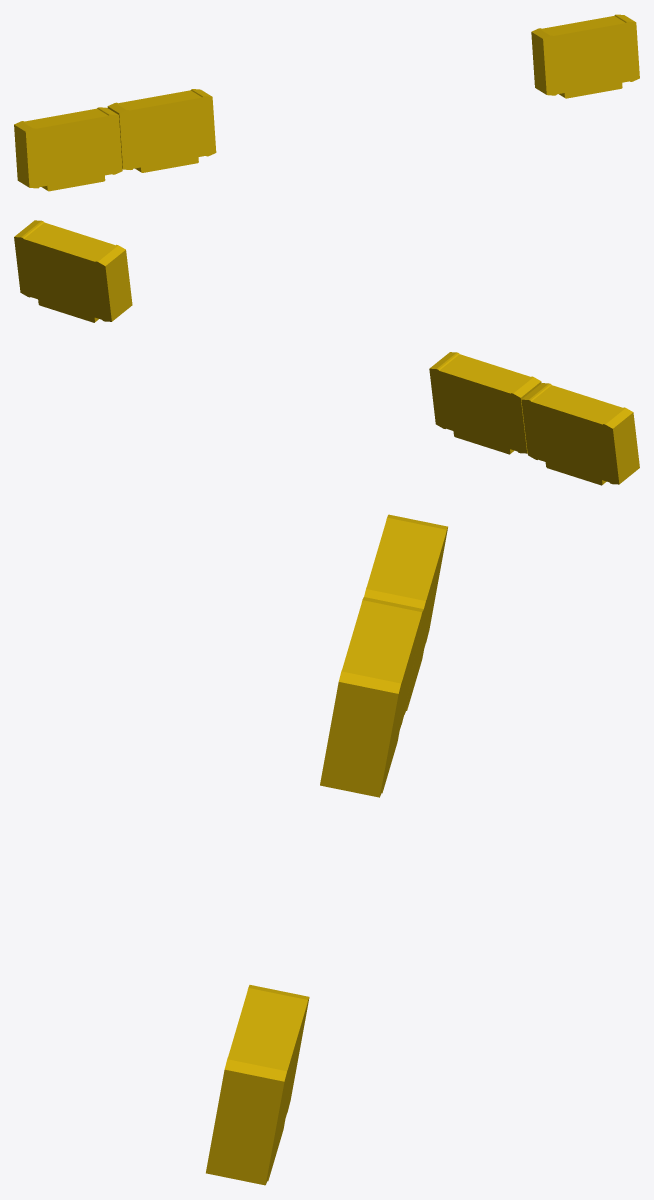
The model's file is POWER ARCHITECTURE__ELEC BOARD COMPONENTS__victron lynx distributor.glb.
3 renders of one model, top to bottom at view 1: azimuth 30°, elevation 25°; view 2: azimuth 150°, elevation 25°; view 3: azimuth 270°, elevation 25°, orthographic. The views are drawn at different scales.
Visible parts, largest first — view 1: victron lynx distributor; view 2: victron lynx distributor; view 3: victron lynx distributor.
Boxes of the visible parts, x1=… form: victron lynx distributor: x1=14, y1=14, x2=639, y2=191; victron lynx distributor: x1=14, y1=220, x2=639, y2=485; victron lynx distributor: x1=206, y1=514, x2=447, y2=1185.
Size of the model in its own units: 1.65 by 0.1833 by 0.302.
